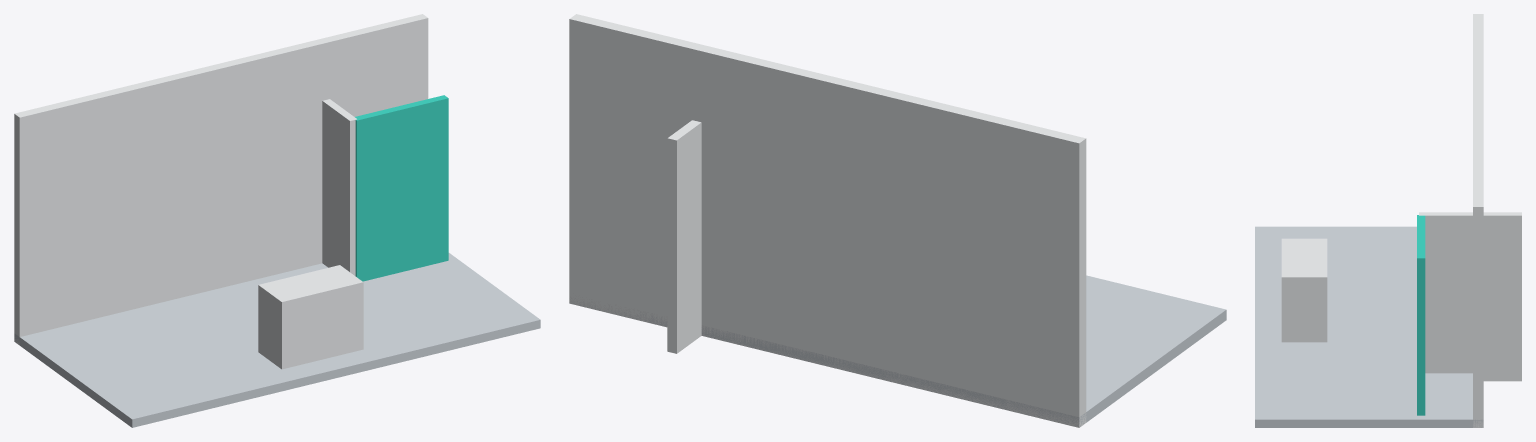
3 views of the same model, side by side, from view 1: azimuth 30°, elevation 25°; view 2: azimuth 150°, elevation 25°; view 3: azimuth 270°, elevation 25° (orthographic). The views are drawn at different scales.
Visible parts, largest first — view 1: Exhibition Booth Concept; view 2: Exhibition Booth Concept; view 3: Exhibition Booth Concept.
Boxes of the visible parts, <box> form: Exhibition Booth Concept: <box>14,14,540,427</box>; Exhibition Booth Concept: <box>569,14,1226,427</box>; Exhibition Booth Concept: <box>1255,14,1521,427</box>.
Bounding box in the file's own units: 6 × 3.2 × 3.51.
